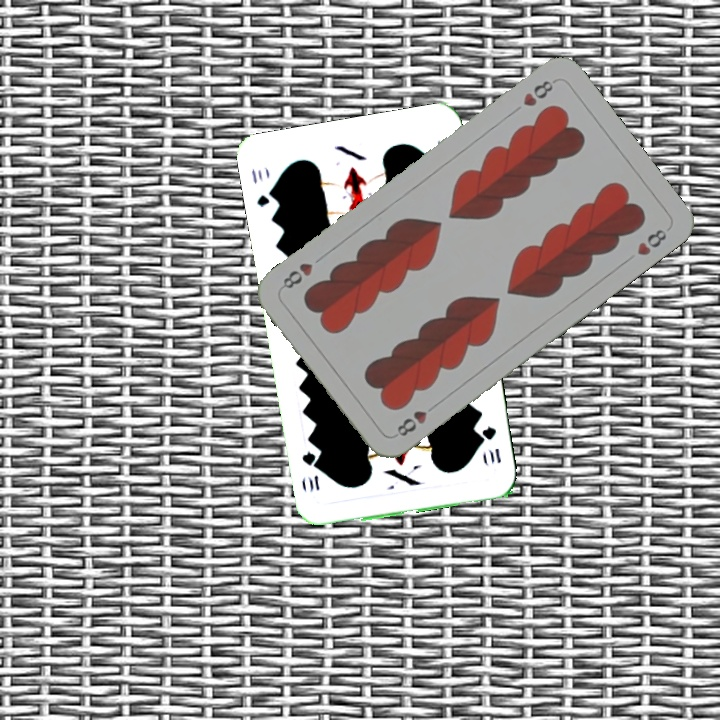G10: (247, 164, 278, 210), (478, 422, 504, 467)
H8: (393, 399, 440, 439), (518, 75, 559, 109)
